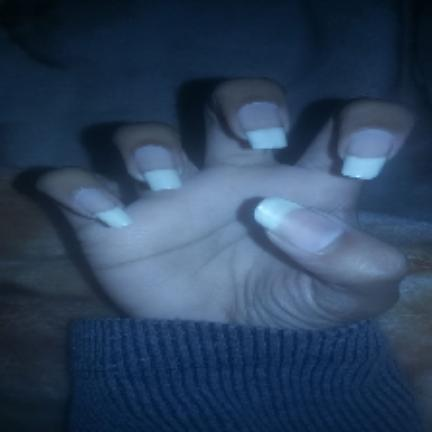Nail: (254, 196, 344, 254), (342, 127, 394, 179), (239, 99, 287, 151), (74, 186, 133, 228), (135, 144, 183, 191)
